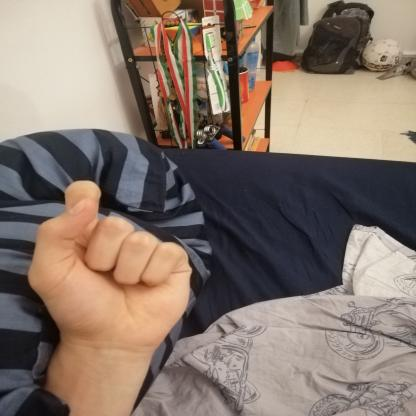FAA: (10, 172, 210, 355)
